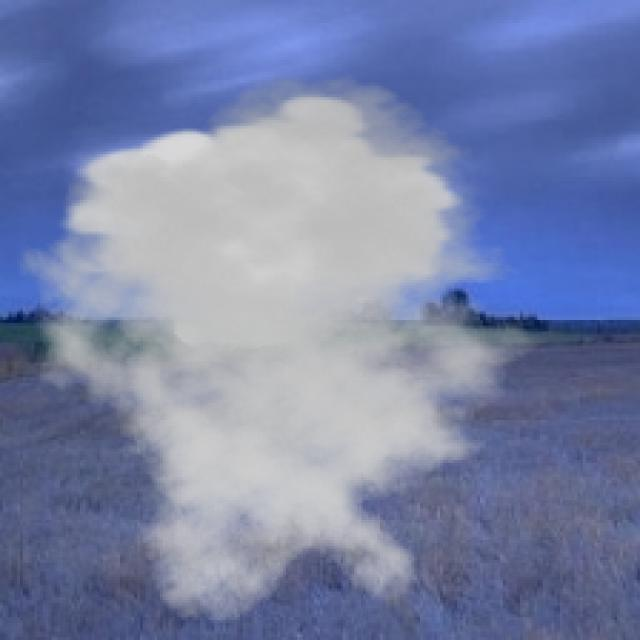smoke: (9, 74, 568, 626)
